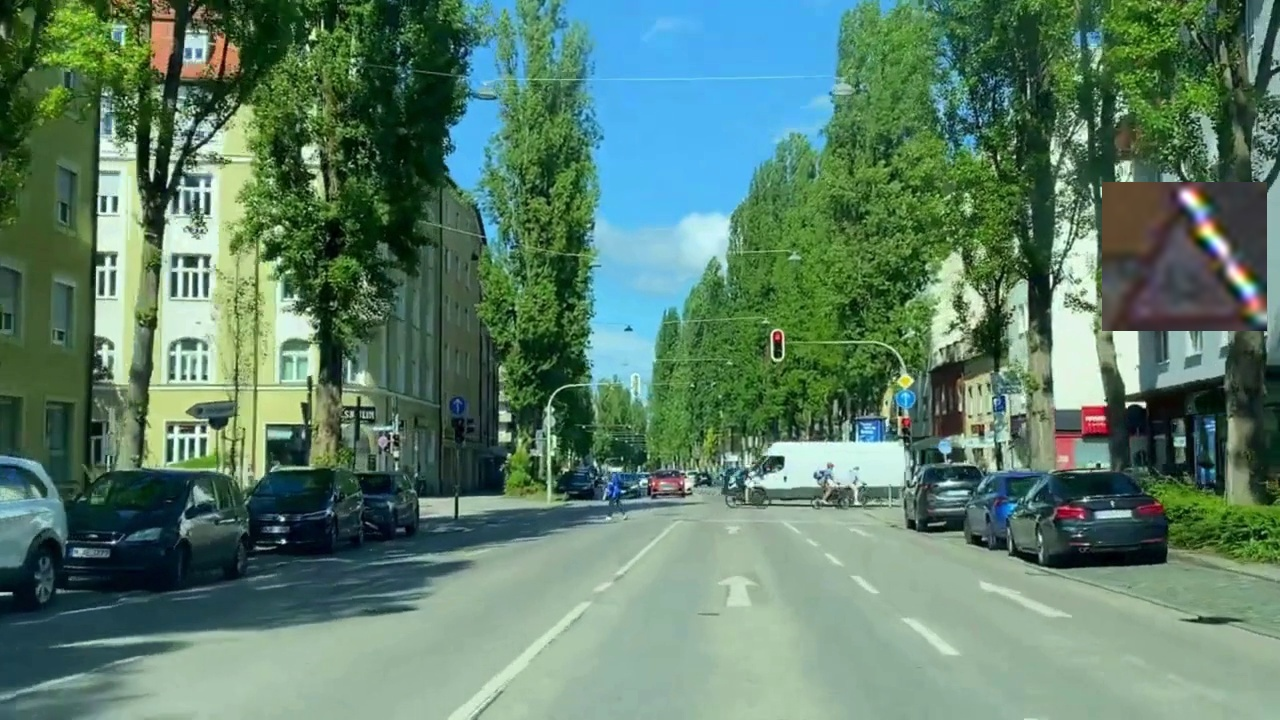Bicycles: (1102, 182, 1267, 331)
